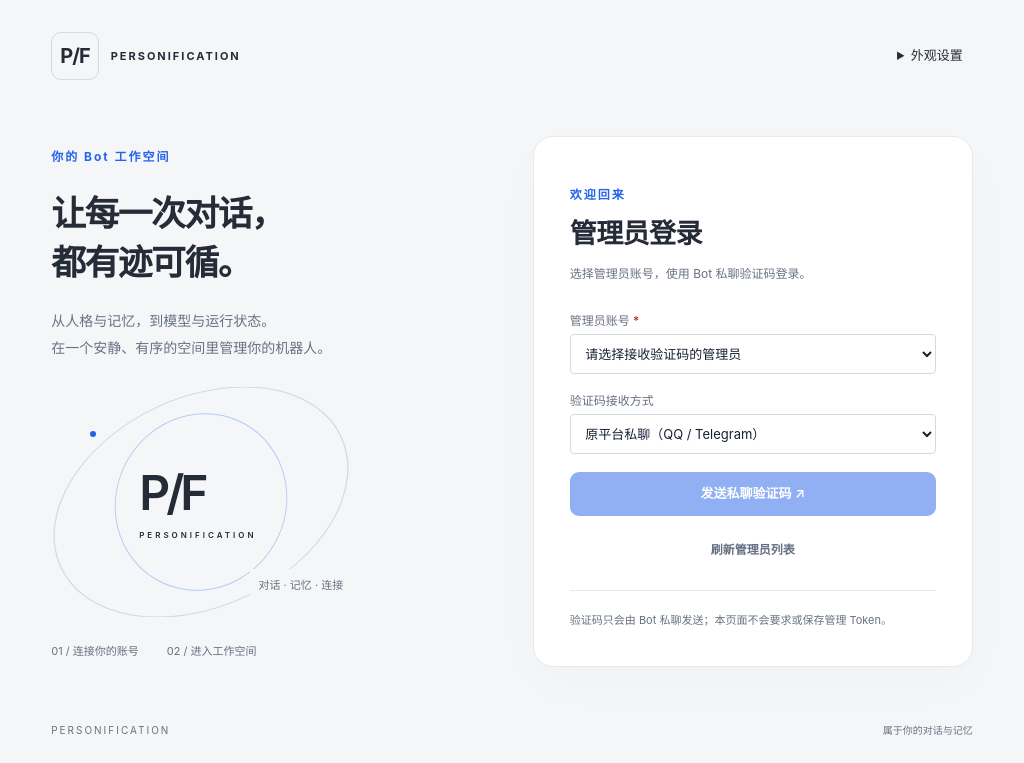
Test: 认证入口 › 未翻译的服务端登录错误使用中文兜底
The image size is (1024, 763).
Select "QQ 10001 · 插件管理员" in the dropdown labelled "管理员账号 *" at (753, 354), box x1=570 y1=334 x2=936 y2=374
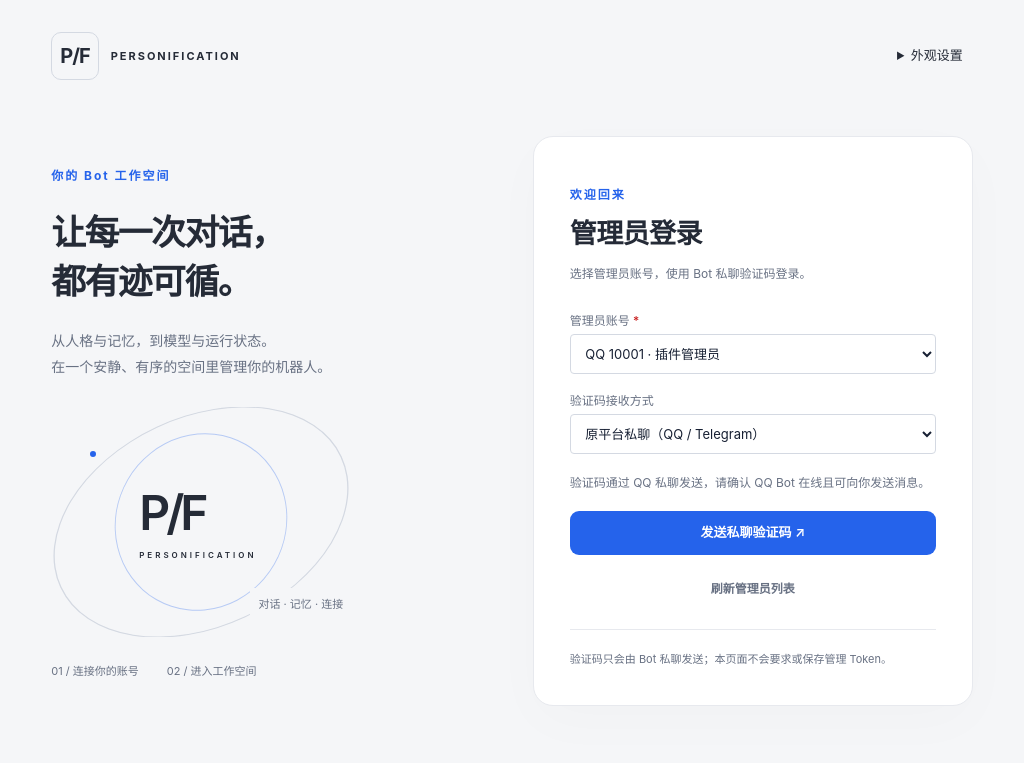
Submit the form, box x1=570 y1=312 x2=936 y2=604
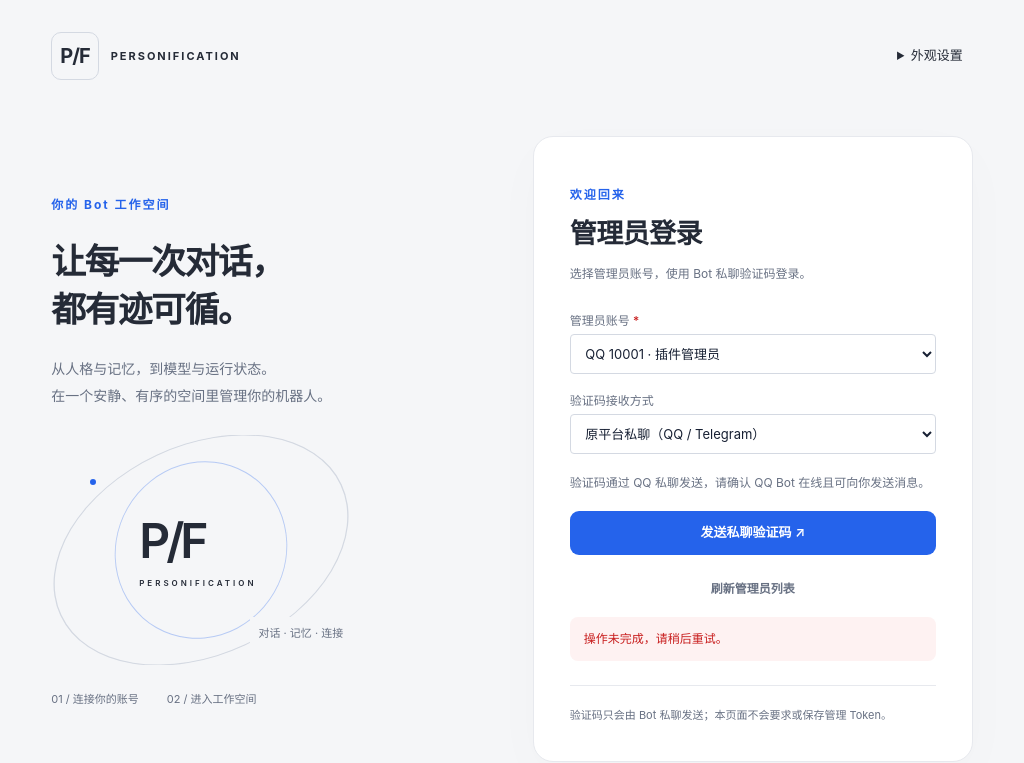
Now the message "操作未完成，请稍后重试。" is shown, box x1=570 y1=616 x2=936 y2=661
